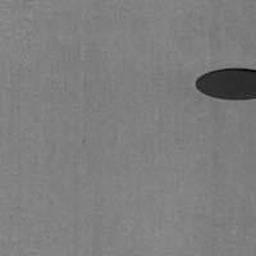Punching: (192, 68, 256, 102)
